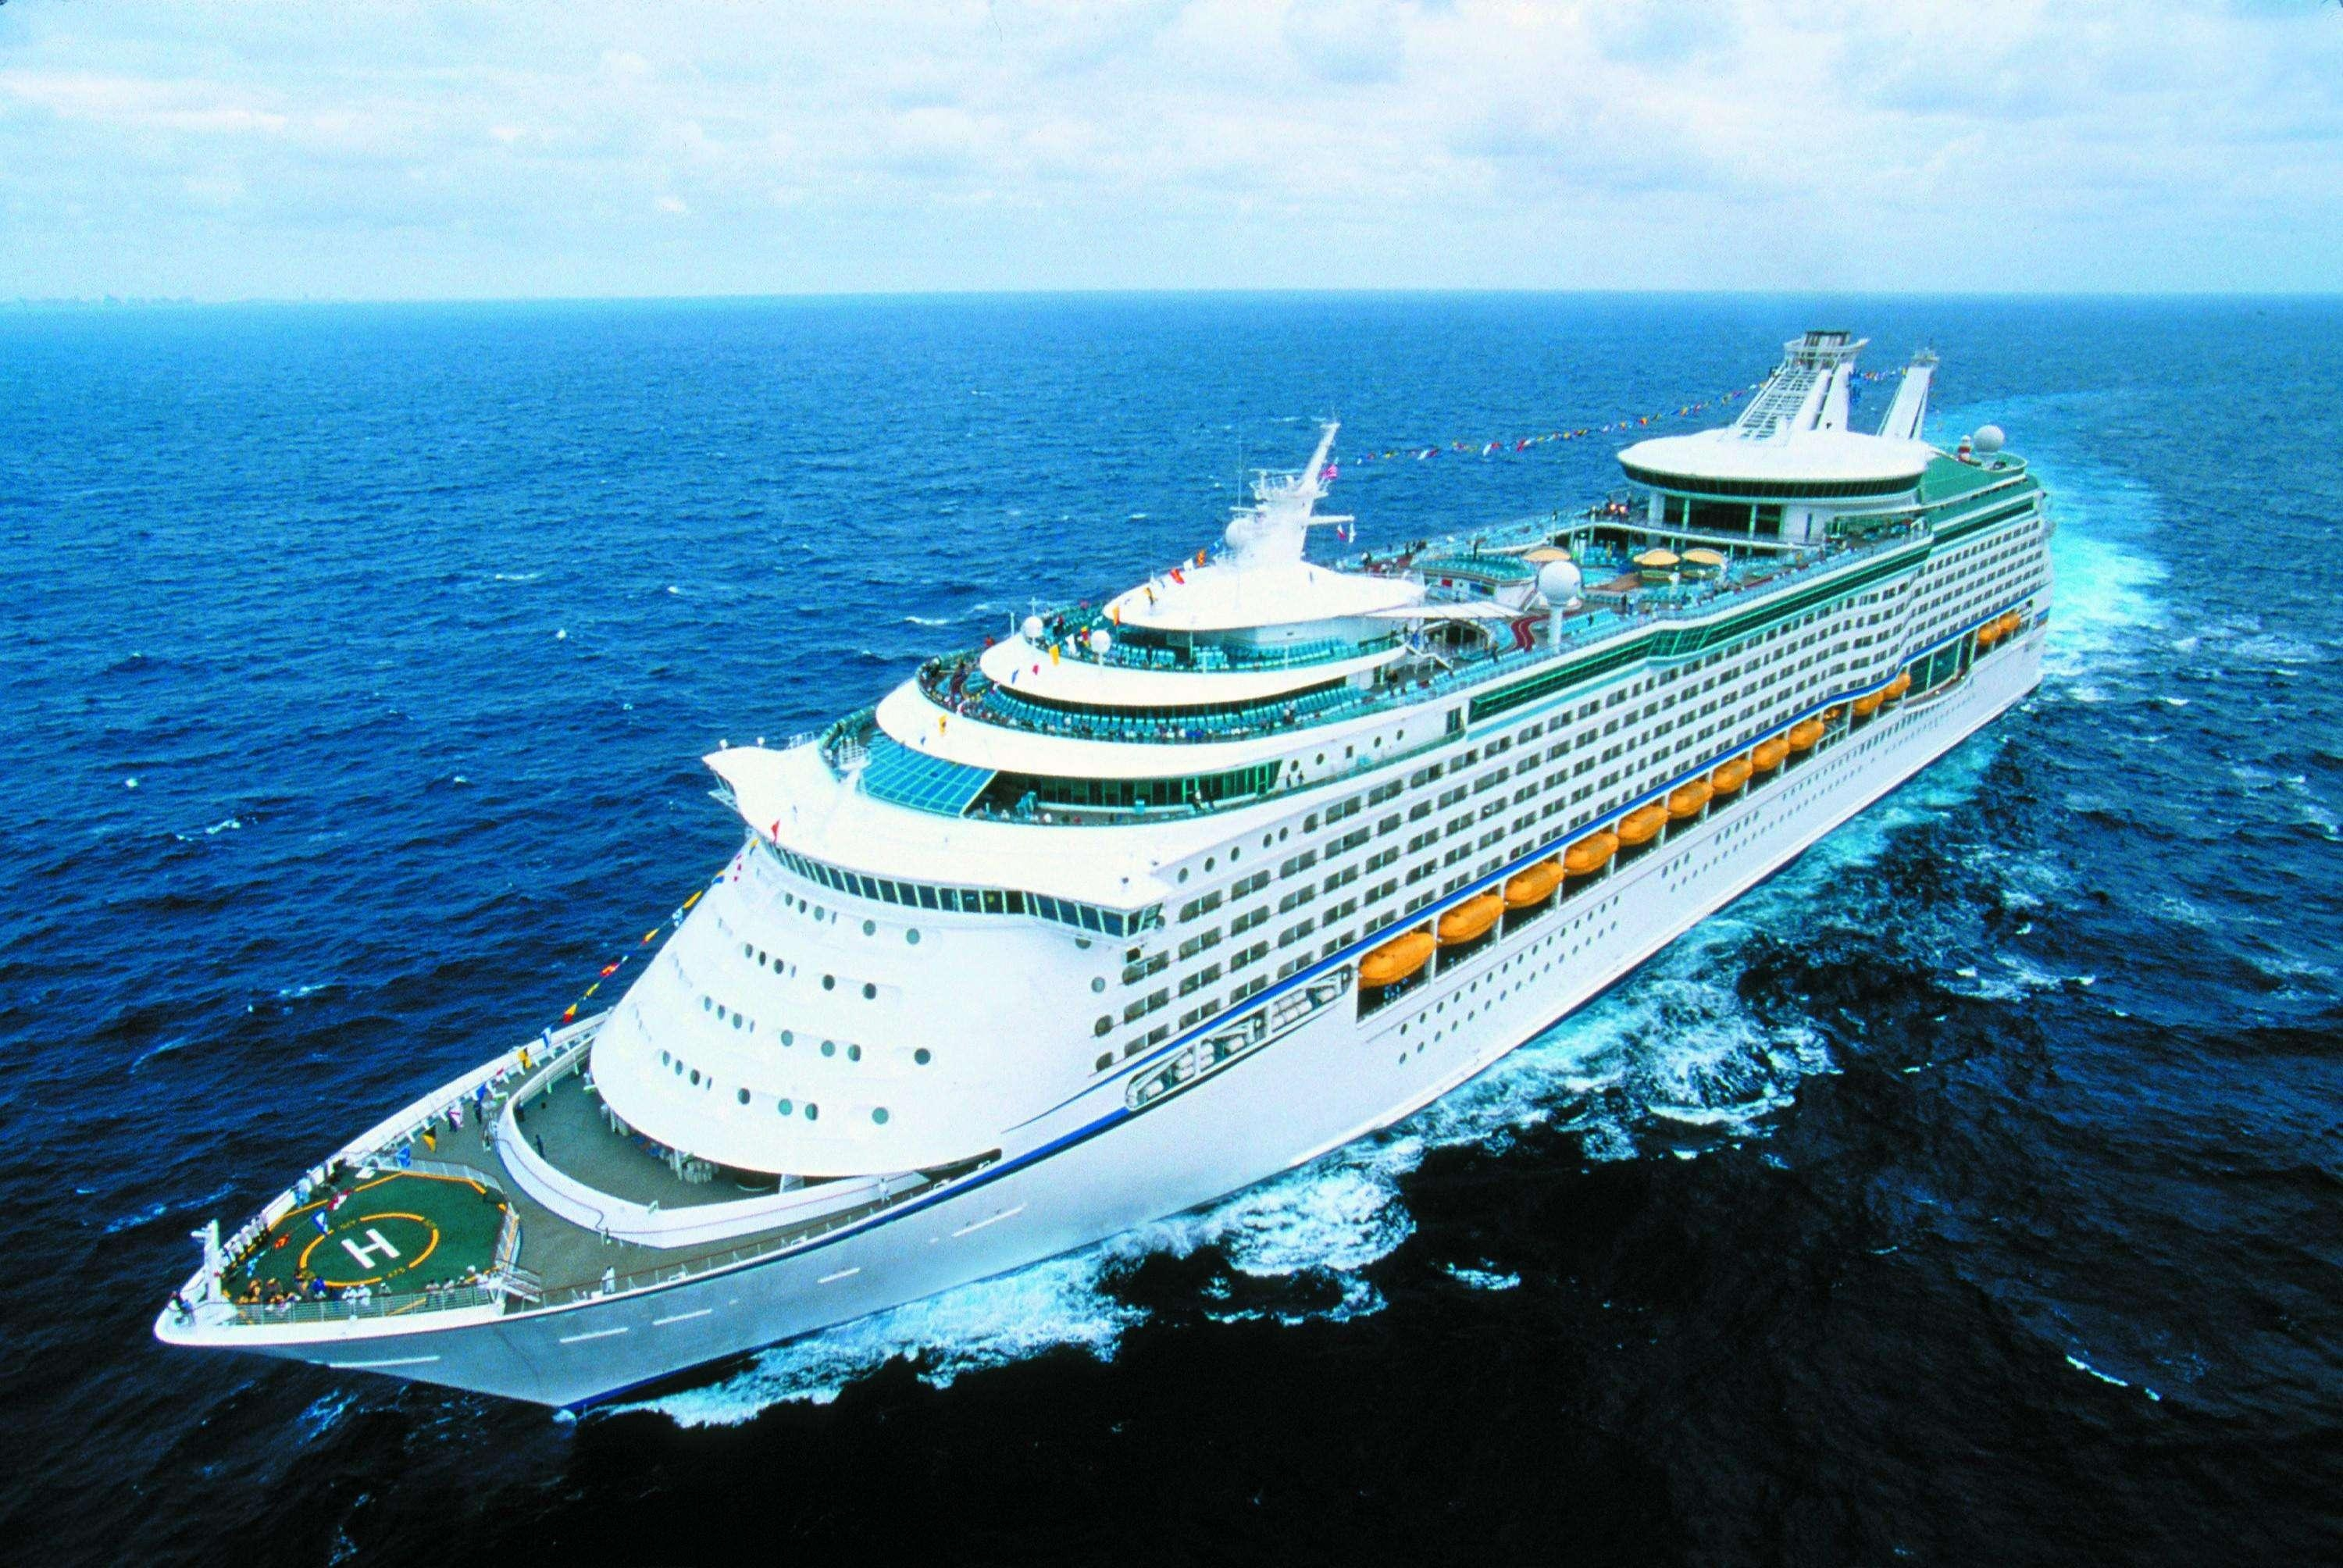youlun: (133, 317, 2067, 1412)
